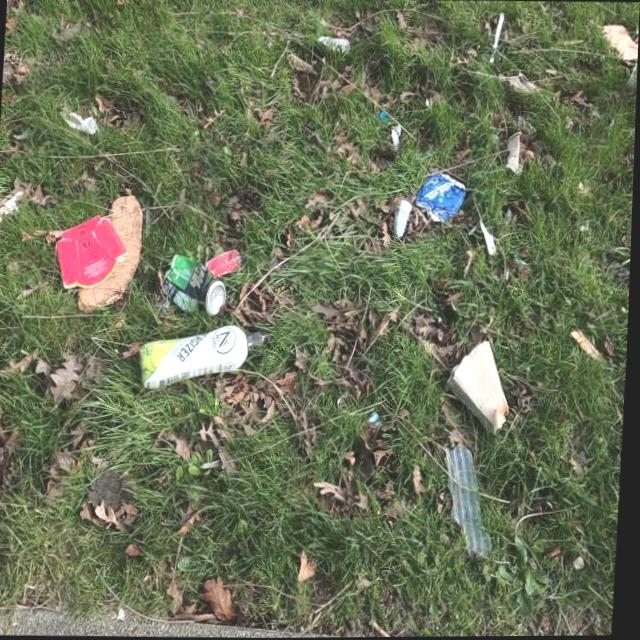Can-Metal: (160, 251, 230, 317), (413, 169, 467, 225)
Paper: (445, 337, 515, 436), (53, 212, 131, 289), (0, 188, 25, 230), (63, 110, 100, 135), (315, 33, 350, 54)
Plastic: (139, 322, 274, 388), (206, 246, 243, 277), (390, 122, 401, 148), (371, 409, 386, 427)
